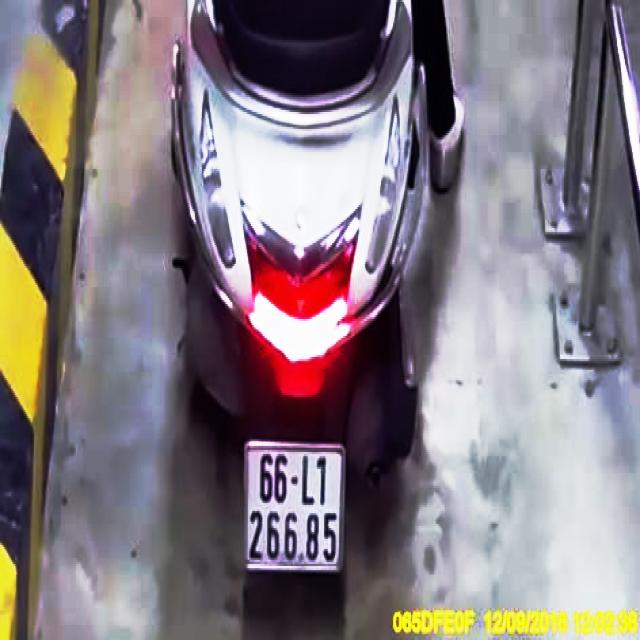license_plate: (244, 449, 344, 573)
